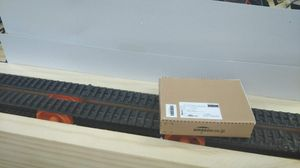box2: (156, 74, 255, 138)
